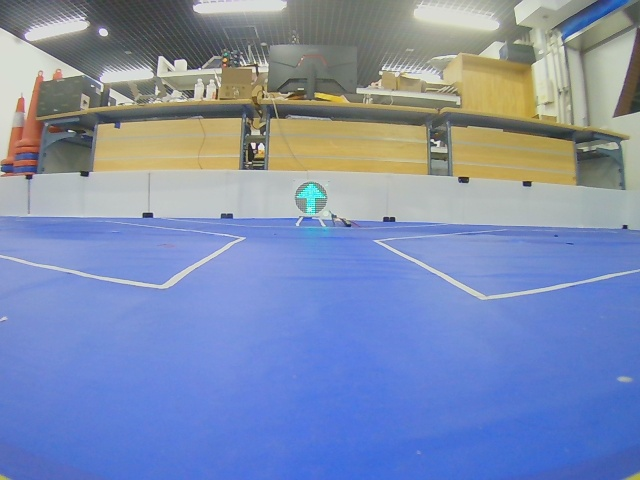straight_green: (295, 182, 327, 216)
